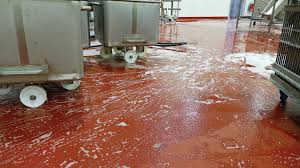Wet-floor: (92, 46, 291, 127)
